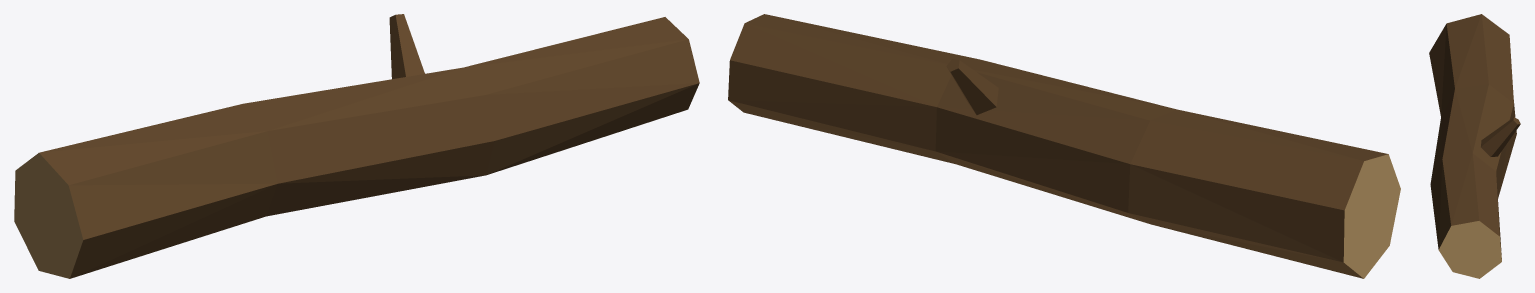
File: HS_LP_Log_01.fbx
3 renders of one model, left to right at view 1: azimuth 30°, elevation 25°; view 2: azimuth 150°, elevation 25°; view 3: azimuth 270°, elevation 25°, orthographic. The views are drawn at different scales.
Parts seen in each view (by area): view 1: HS_LP_Log_01; view 2: HS_LP_Log_01; view 3: HS_LP_Log_01.
Boxes of the visible parts, box(x1,y1,x2,y2) form: HS_LP_Log_01: box(14, 14, 699, 278); HS_LP_Log_01: box(728, 14, 1400, 278); HS_LP_Log_01: box(1429, 14, 1520, 278).
Size of the model in its own units: 191 by 42.05 by 37.35.
